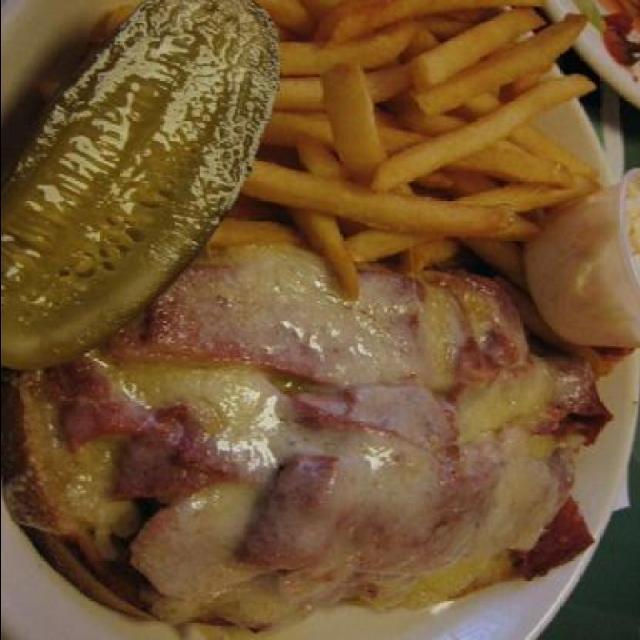Potato: (35, 0, 603, 300)
